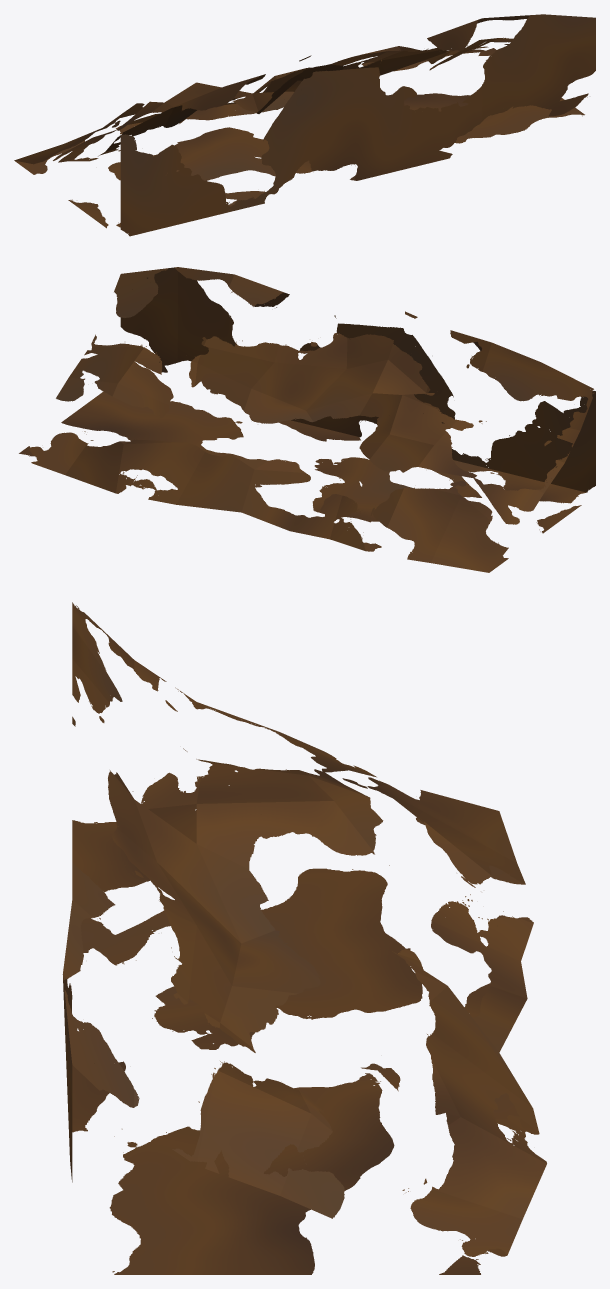
File: Collin_dirtPileCorner_00.fbx
The picture shows the model from 3 angles, top to bottom: view 1: azimuth 30°, elevation 25°; view 2: azimuth 150°, elevation 25°; view 3: azimuth 270°, elevation 25°; orthographic projection. The views are drawn at different scales.
Visible parts, largest first — view 1: dirtagainst_wall.001; view 2: dirtagainst_wall.001; view 3: dirtagainst_wall.001.
Boxes of the visible parts, bbox=[...] form: dirtagainst_wall.001: bbox=[14, 14, 595, 236]; dirtagainst_wall.001: bbox=[19, 267, 595, 572]; dirtagainst_wall.001: bbox=[62, 602, 546, 1274].
Size of the model in its own units: 12.57 by 3.46 by 5.55.
Materials: 1 (1 with a texture image).
